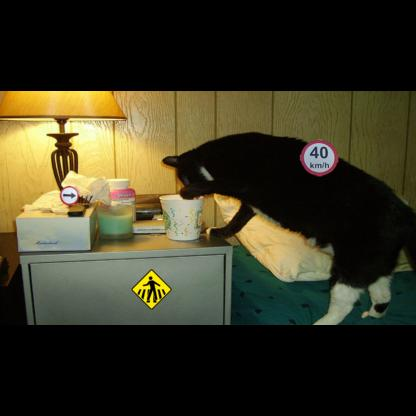A-32b: (131, 269, 172, 310)
R-19: (300, 140, 338, 176)
R-24a: (60, 186, 79, 205)
